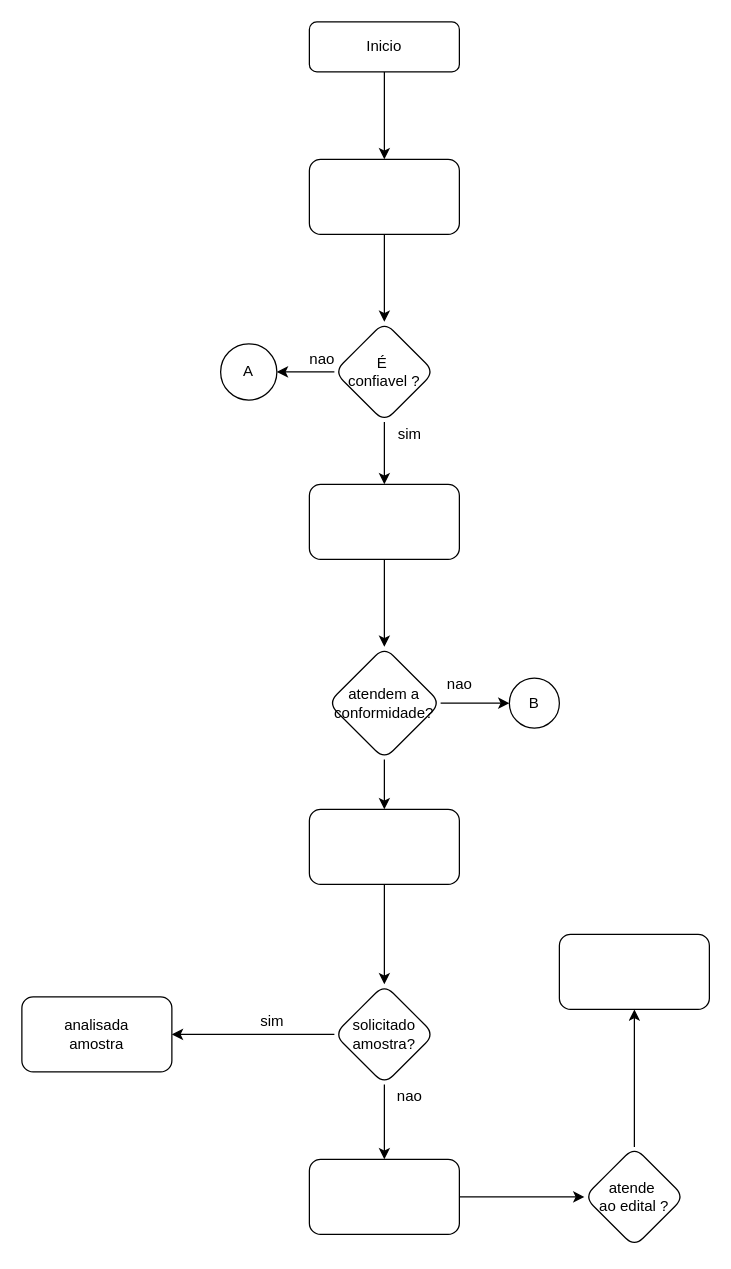
Some shapes in this 731 by 1269 pixel diagram are drawn without their labels. Here are the shapes that lost their labels. From the top down, the box of each, then its label:
(308, 158, 459, 234): processo de confiabilidade
(308, 483, 459, 559): processo de verificação de conformidade do produto
(308, 808, 459, 884): Selecionado proposta de menor preço
(308, 1158, 459, 1234): analisada proposta comercial
